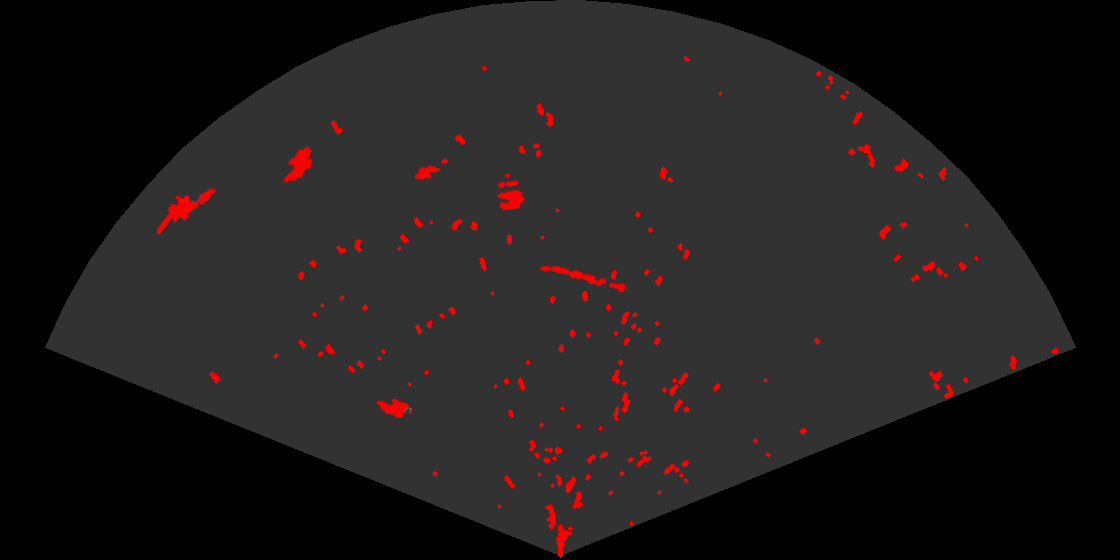AUV: (282, 145, 314, 185), (375, 397, 415, 420), (413, 163, 443, 182)
ball: (495, 179, 527, 212)
chain: (538, 264, 632, 294)
frogman: (157, 186, 217, 234)
